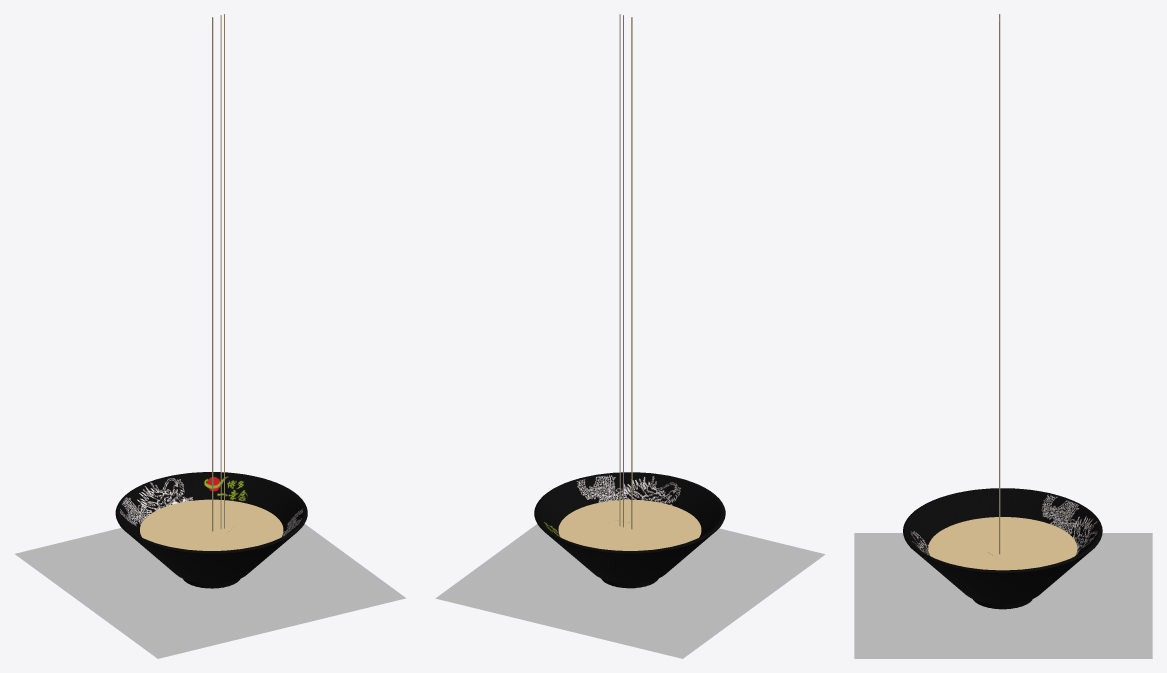
The model's file is untitled_water_men.fbx.
3 renders of one model, left to right at view 1: azimuth 30°, elevation 25°; view 2: azimuth 150°, elevation 25°; view 3: azimuth 270°, elevation 25°, orthographic. The views are drawn at different scales.
Parts seen in each view (by area): view 1: Plane, Cylinder, Cylinder.001, Cylinder.004, Cylinder.005; view 2: Plane, Cylinder, Cylinder.001, Cylinder.005, Cylinder.002; view 3: Plane, Cylinder, Cylinder.001, Cylinder.002.
Part boxes in pixels (x1,y1,x2,y2): Plane: (15,524,405,658); Cylinder: (115,472,307,588); Cylinder.001: (140,499,283,550); Cylinder.004: (220,15,221,529); Cylinder.005: (212,17,213,531); Plane: (435,524,825,658); Cylinder: (534,472,725,588); Cylinder.001: (558,500,701,550); Cylinder.005: (631,17,632,529); Cylinder.002: (619,14,620,526); Plane: (854,533,1152,658); Cylinder: (903,488,1102,609); Cylinder.001: (928,517,1077,570); Cylinder.002: (999,20,1000,554).
Size of the model in its own units: 1124 by 2421 by 1124.
